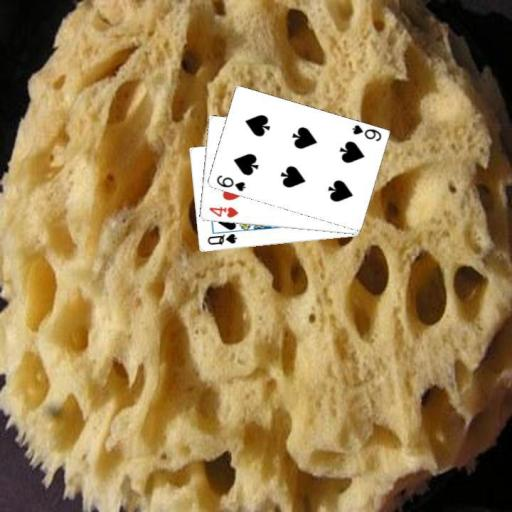4H: (206, 203, 239, 220)
6S: (213, 172, 247, 193), (349, 122, 383, 143)
QS: (204, 231, 238, 247)
